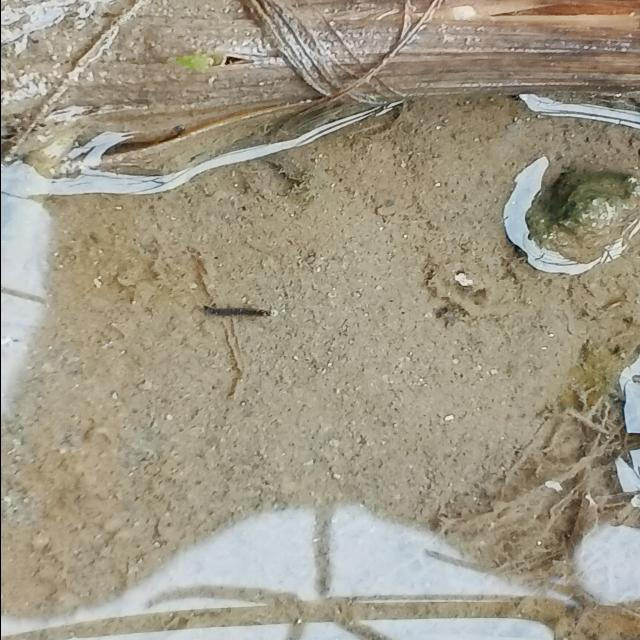Breeding Place: (22, 102, 640, 640)
